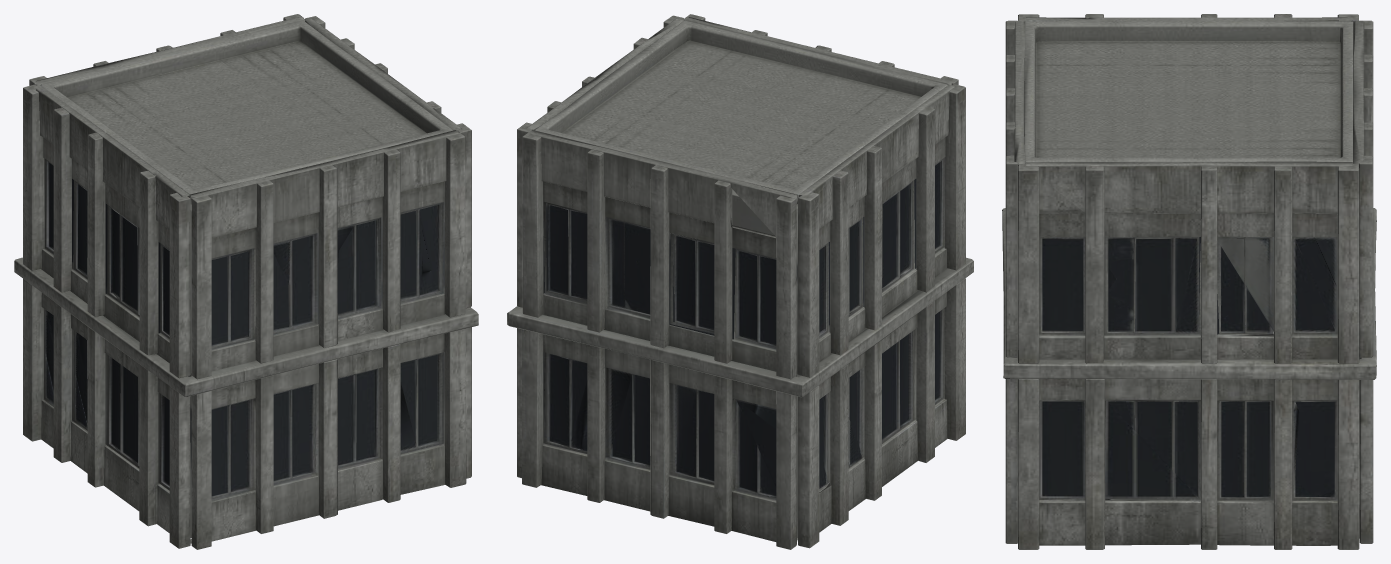
Rendered from skyscraper_mid_2f.glb.
3 views of the same model, side by side, from view 1: azimuth 30°, elevation 25°; view 2: azimuth 150°, elevation 25°; view 3: azimuth 270°, elevation 25° (orthographic). The views are drawn at different scales.
Size of the model in its own units: 0.8472 by 0.9521 by 0.8481.
1 material, 1 textured.
